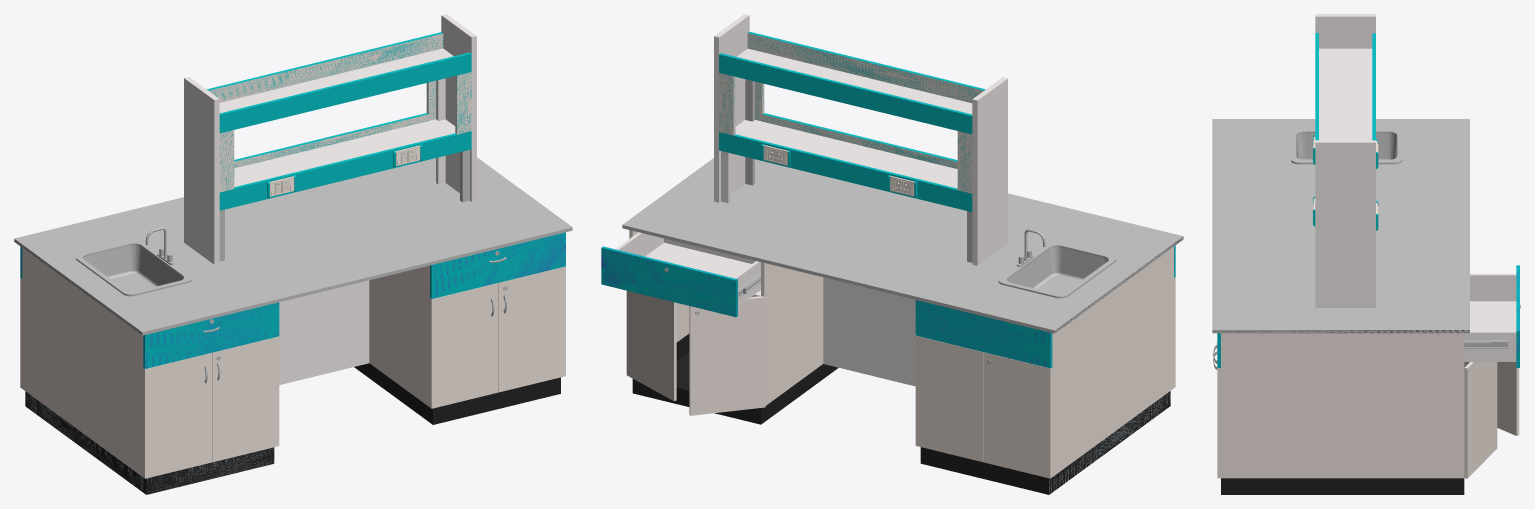
The model's file is Lab_table_model.dae.
3 renders of one model, left to right at view 1: azimuth 30°, elevation 25°; view 2: azimuth 150°, elevation 25°; view 3: azimuth 270°, elevation 25°, orthographic.
Visible parts, largest first — view 1: group_15, group_49, Union (×3), group_59, group_50, group_16, group_44, group_17, group_11, OuterShell (×2), group_39, group_55 (+8 smaller); view 2: group_15, group_49, OuterShell (×3), group_59, group_8, group_47, group_48, group_11, Union (×2), group_39, group_23, group_54 (+9 smaller); view 3: group_15 (×2), group_14, group_36, group_40, group_0, group_29, group_13, group_39, CS200_-_Sink__SS__Single_Compartment__12x28x16_ID (×2), group_8, group_17, Union (+2 smaller).
Boxes of the visible parts, <box> form: group_15: <box>14,157,572,335</box>; group_49: <box>22,248,143,476</box>; Union (×3): <box>219,52,471,210</box>; group_59: <box>279,280,369,384</box>; group_50: <box>143,353,211,478</box>; group_16: <box>430,283,498,408</box>; group_44: <box>212,336,279,462</box>; group_17: <box>498,266,565,392</box>; group_11: <box>369,265,429,407</box>; OuterShell (×2): <box>207,32,443,168</box>; group_39: <box>184,77,219,264</box>; group_55: <box>143,302,279,368</box>; group_15: <box>622,158,1182,333</box>; group_49: <box>1052,247,1173,476</box>; OuterShell (×3): <box>719,53,972,211</box>; group_59: <box>823,277,915,386</box>; group_8: <box>689,296,765,415</box>; group_47: <box>983,352,1052,478</box>; group_48: <box>915,335,983,461</box>; group_11: <box>761,262,823,405</box>; Union (×2): <box>747,31,985,168</box>; group_39: <box>972,77,1007,265</box>; group_23: <box>601,246,737,317</box>; group_54: <box>915,300,1052,368</box>; group_15 (×2): <box>1212,119,1469,333</box>; group_14: <box>1221,333,1464,478</box>; group_36: <box>1315,140,1375,307</box>; group_40: <box>1319,48,1372,140</box>; group_0: <box>1221,478,1464,494</box>; group_29: <box>1464,273,1516,361</box>; group_13: <box>1464,362,1497,478</box>; group_39: <box>1315,14,1375,48</box>; CS200_-_Sink__SS__Single_Compartment__12x28x16_ID (×2): <box>1291,129,1402,164</box>; group_8: <box>1464,362,1519,435</box>; group_17: <box>1217,368,1220,478</box>; Union: <box>1315,33,1318,140</box>.
Size of the model in its own units: 97.01 by 59.93 by 71.57.
